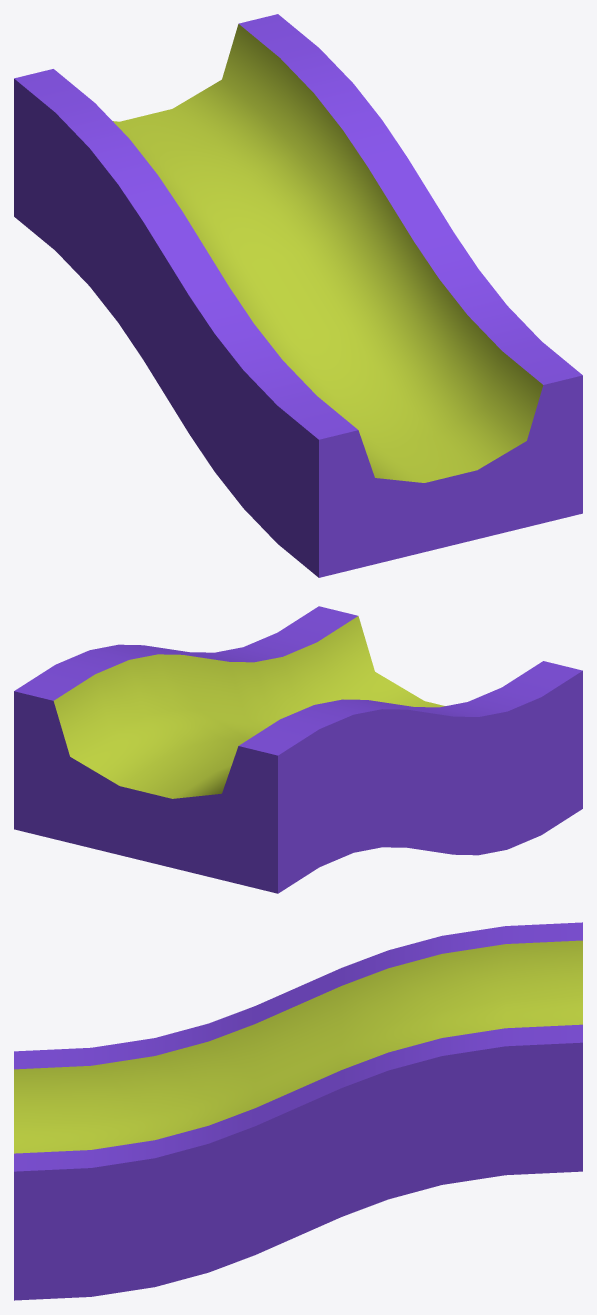
The model's file is ramp_long_B-col.dae.
3 renders of one model, top to bottom at view 1: azimuth 30°, elevation 25°; view 2: azimuth 150°, elevation 25°; view 3: azimuth 270°, elevation 25°, orthographic. The views are drawn at different scales.
Visible parts, largest first — view 1: ramp_long_B-col; view 2: ramp_long_B-col; view 3: ramp_long_B-col.
Boxes of the visible parts, box(x1,y1,x2,y2) form: ramp_long_B-col: box(14, 14, 582, 577); ramp_long_B-col: box(14, 606, 582, 893); ramp_long_B-col: box(14, 922, 582, 1300).
Bounding box in the file's own units: 1 × 2 × 1.
